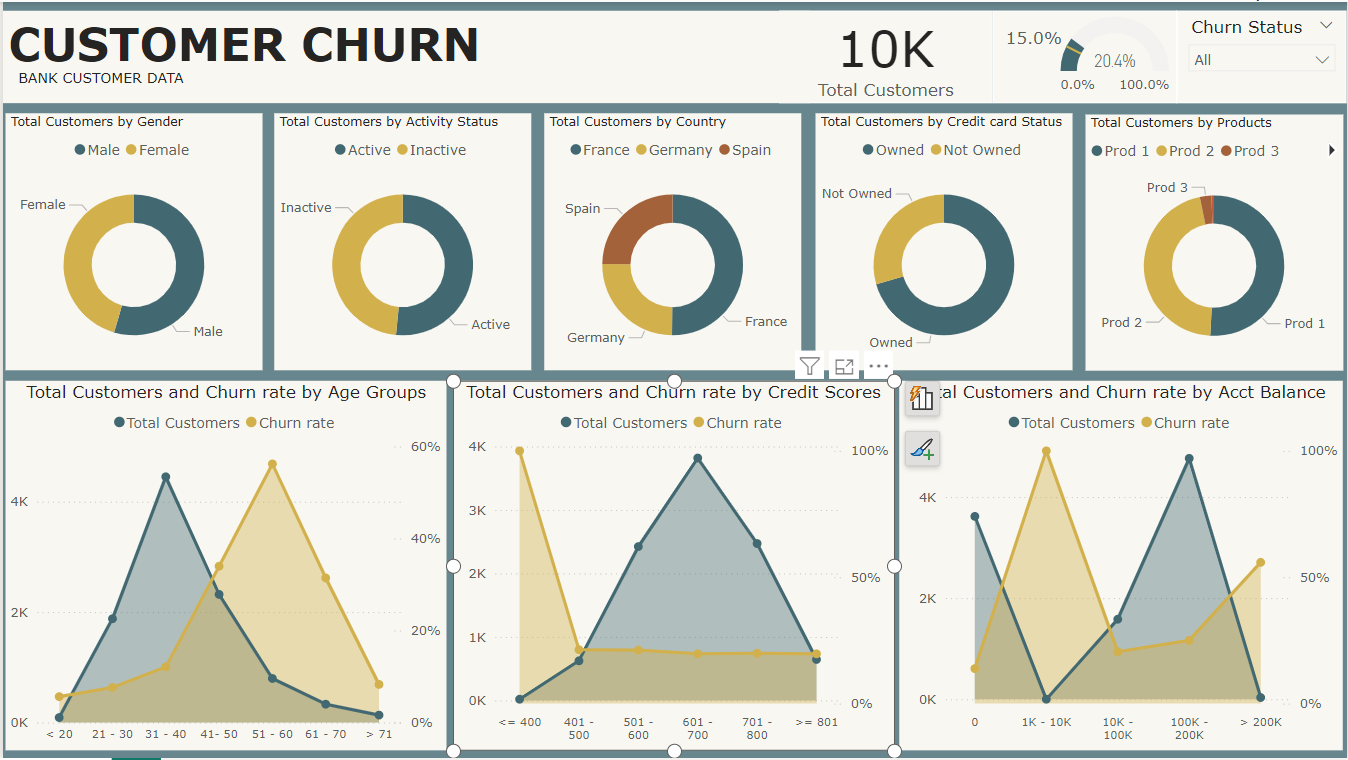

What the dashboard file says about the page in this screenshot:
{"tool":"powerbi","page":{"name":"Churn Dashboard","canvas":[1280,720],"ordinal":0},"visuals":[{"type":"card","fields":{"Values":["Customer Data.Total Customers"]},"box":[739.3,8.3,203.6,88.1],"z":0},{"type":"donutChart","fields":{"Category":["Customer Data.Gender"],"Y":["Customer Data.Total Customers"]},"box":[2,105.4,245,245],"z":1000},{"type":"donutChart","fields":{"Y":["Customer Data.Total Customers"],"Category":["Customer Data.Activity Status"]},"box":[257.7,105.4,245,245],"z":2000},{"type":"donutChart","fields":{"Y":["Customer Data.Total Customers"],"Category":["Customer Data.Country"]},"box":[515.5,105.4,245,245],"z":3000},{"type":"donutChart","fields":{"Category":["Customer Data.Credit card Status"],"Y":["Customer Data.Total Customers"]},"box":[773.2,105.4,245,245],"z":4000},{"type":"donutChart","fields":{"Category":["Customer Data.Products"],"Y":["Customer Data.Total Customers"]},"box":[1031,107.1,245.2,244],"z":5000},{"type":"areaChart","fields":{"Category":["Age Groups.Age Groups"],"Y":["Customer Data.Total Customers"],"Y2":["Customer Data.Churn rate"]},"box":[2.4,360.5,420.2,352.4],"z":6000},{"type":"areaChart","fields":{"Category":["Credit Score Groups.Credit Score Groups"],"Y":["Customer Data.Total Customers"],"Y2":["Customer Data.Churn rate"]},"box":[428.6,360.5,420,352.4],"z":7000},{"type":"areaChart","fields":{"Category":["Acct Balance groups.Acct Balance"],"Y":["Customer Data.Total Customers"],"Y2":["Customer Data.Churn rate"]},"box":[853.6,360.5,422.6,352.4],"z":8000},{"type":"slicer","fields":{"Values":["Customer Data.Churn Status"]},"box":[1117.9,8.3,161.9,88.1],"z":9000},{"type":"gauge","fields":{"MinValue":["Min(Customer Data.Min Churn rate)"],"MaxValue":["Max(Customer Data.Max Churn rate)"],"Y":["Customer Data.Churn rate"],"TargetValue":["Max(Customer Data.Target Churn rate)"]},"box":[942.9,8.3,175,88.1],"z":10000},{"type":"textbox","box":[0,8.3,767.9,88.1],"z":11000},{"type":"textbox","box":[9.5,58.3,178.6,26.2],"z":12000}]}

Visuals, with their boxes in screenshot pixels (x1, y1, x2, y2), scaled from the page's 1280x720 canvas onto the 1348x760 screenshot:
card - Customer Data.Total Customers: bbox=[779, 9, 993, 102]
donutChart - Customer Data.Gender x Customer Data.Total Customers: bbox=[2, 111, 260, 370]
donutChart - Customer Data.Total Customers x Customer Data.Activity Status: bbox=[271, 111, 529, 370]
donutChart - Customer Data.Total Customers x Customer Data.Country: bbox=[543, 111, 801, 370]
donutChart - Customer Data.Credit card Status x Customer Data.Total Customers: bbox=[814, 111, 1072, 370]
donutChart - Customer Data.Products x Customer Data.Total Customers: bbox=[1086, 113, 1344, 371]
areaChart - Age Groups.Age Groups x Customer Data.Total Customers: bbox=[3, 381, 445, 753]
areaChart - Credit Score Groups.Credit Score Groups x Customer Data.Total Customers: bbox=[451, 381, 894, 753]
areaChart - Acct Balance groups.Acct Balance x Customer Data.Total Customers: bbox=[899, 381, 1344, 753]
slicer - Customer Data.Churn Status: bbox=[1177, 9, 1347, 102]
gauge - Min(Customer Data.Min Churn rate) x Max(Customer Data.Max Churn rate): bbox=[993, 9, 1177, 102]
textbox: bbox=[0, 9, 809, 102]
textbox: bbox=[10, 62, 198, 89]
